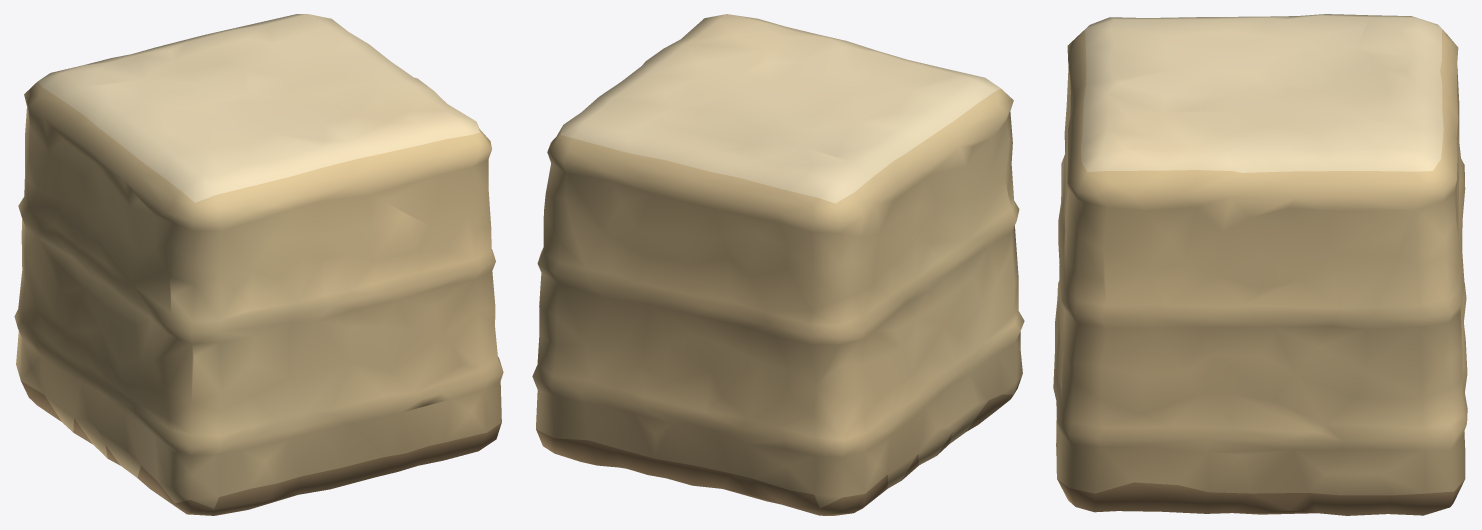
The model's file is shore_sand_brick.glb.
The picture shows the model from 3 angles, left to right: view 1: azimuth 30°, elevation 25°; view 2: azimuth 150°, elevation 25°; view 3: azimuth 270°, elevation 25°; orthographic projection. The views are drawn at different scales.
Parts seen in each view (by area): view 1: shore_sand_brick; view 2: shore_sand_brick; view 3: shore_sand_brick.
Part boxes in pixels (x1,y1,x2,y2): shore_sand_brick: (14,14,503,515); shore_sand_brick: (532,14,1024,515); shore_sand_brick: (1053,14,1467,515).
Size of the model in its own units: 4.91 by 4.8 by 4.93.
